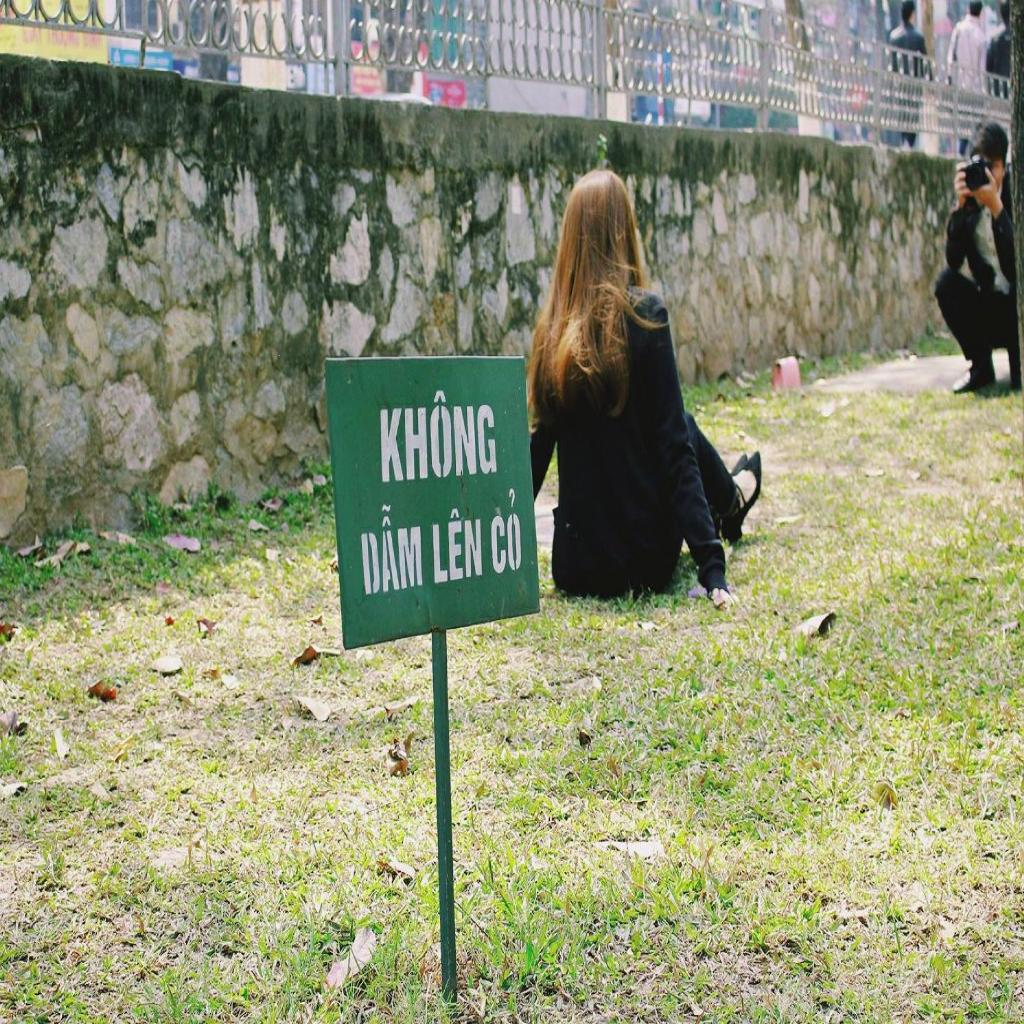text: (381, 388, 500, 486), (357, 498, 424, 598), (432, 506, 484, 587), (488, 487, 524, 577)
